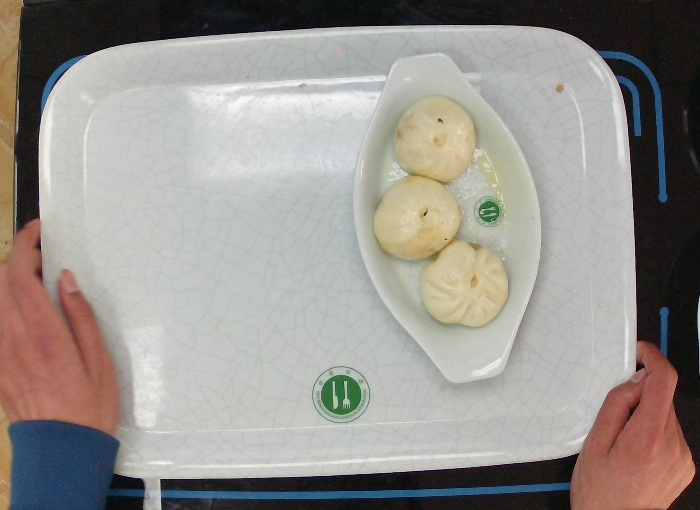JYsf-Yu_Pan: (347, 49, 549, 387)
